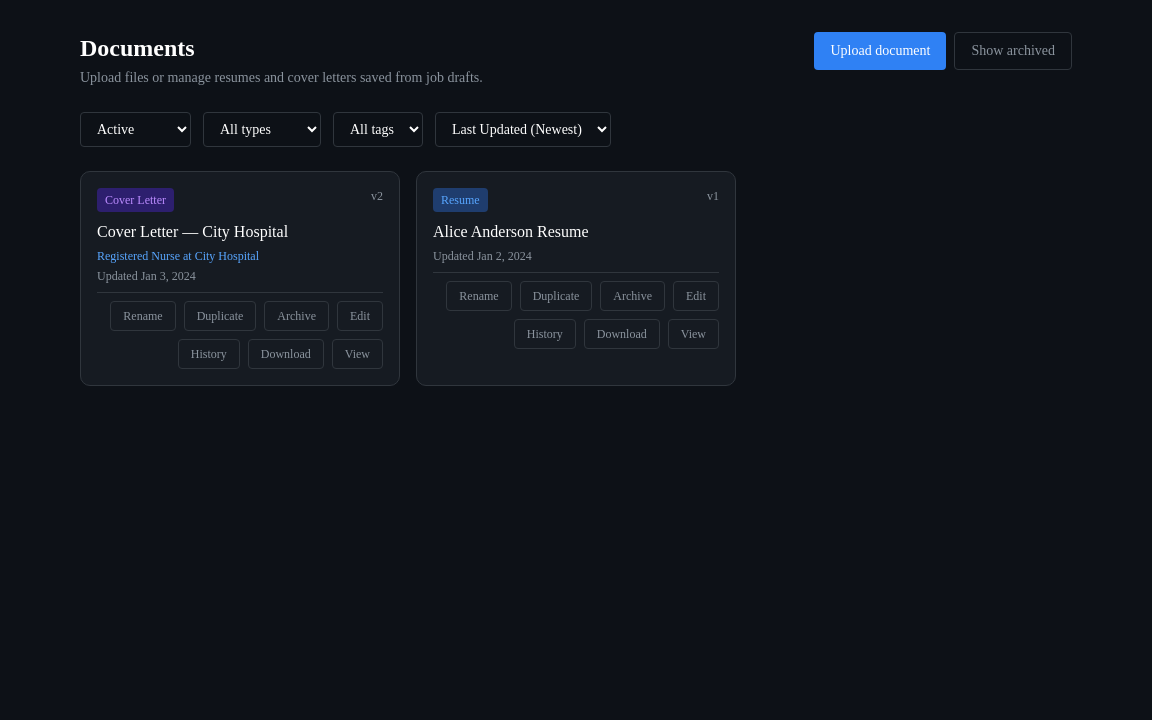
Test case: DocumentsPage - S3-001 Document Library List View › shows linked job info in modal description when present
Expected: the heading "Cover Letter — City Hospital" is shown, x1=97 y1=223 x2=288 y2=240
Click the button with test id "document-view-button" below "Jan 3, 2024" at point(357, 354), box x1=332 y1=339 x2=383 y2=369
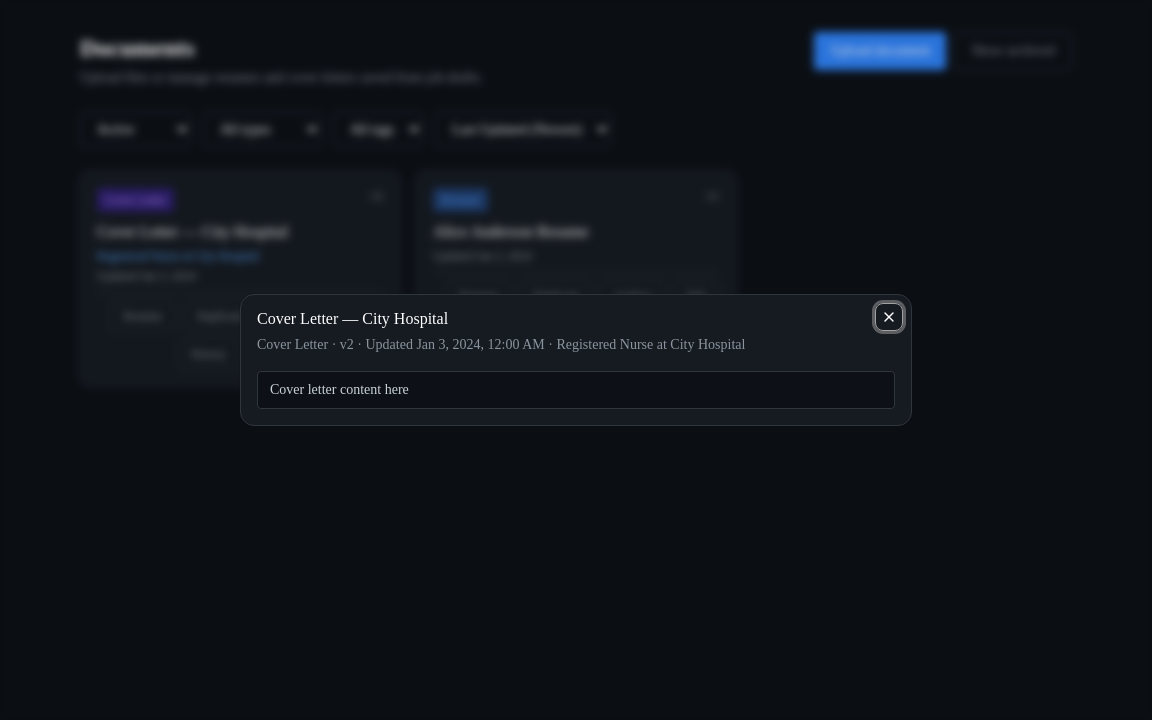
Expected: the text "Registered Nurse at City Hospital" is shown, x1=257 y1=337 x2=745 y2=352
